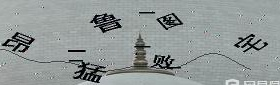chinese: (4, 26, 39, 58), (234, 33, 270, 57), (69, 61, 101, 85), (92, 12, 120, 37), (153, 11, 181, 34), (154, 49, 177, 74)
